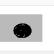correct: (10, 20, 34, 40)
